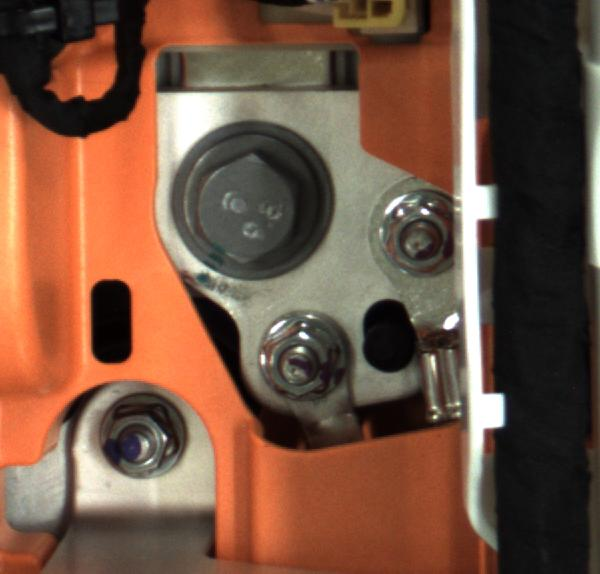screw_s: (247, 308, 354, 405), (363, 169, 457, 276), (98, 403, 181, 487)
